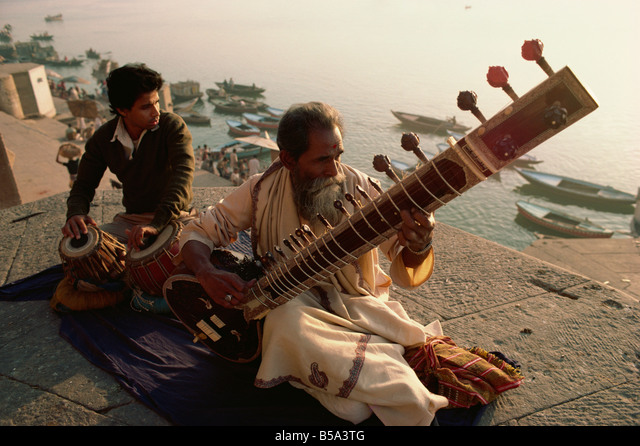tabla: (54, 224, 125, 285), (126, 221, 185, 292)
